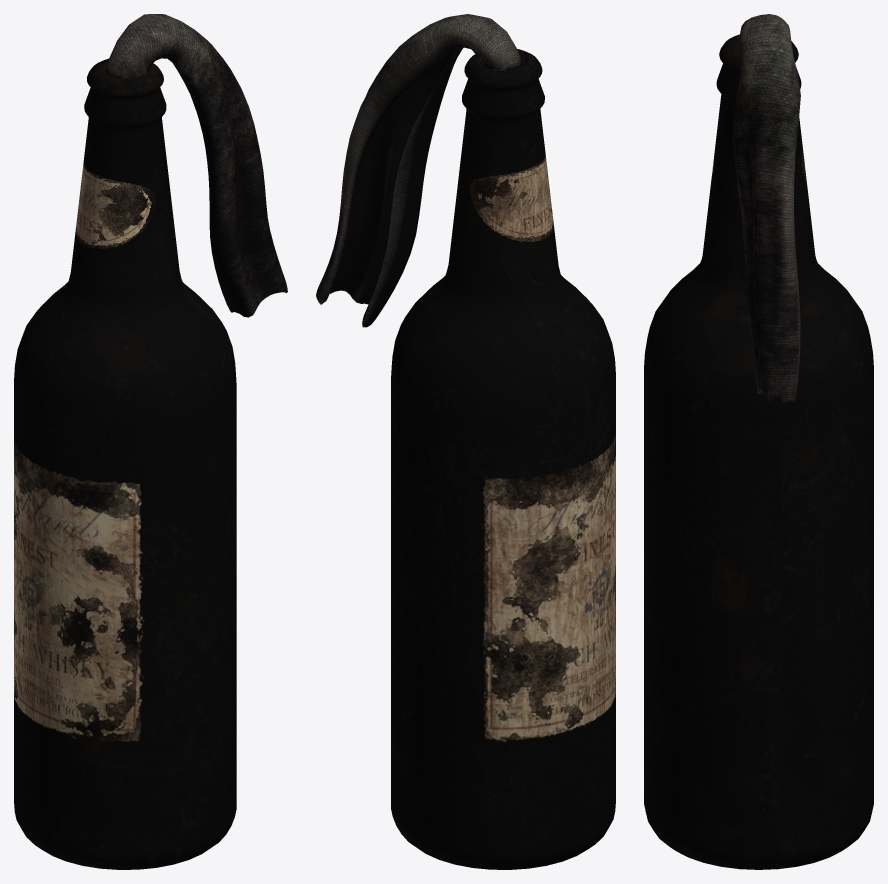
The model's file is molotov_1k.glb.
3 views of the same model, side by side, from view 1: azimuth 30°, elevation 25°; view 2: azimuth 150°, elevation 25°; view 3: azimuth 270°, elevation 25° (orthographic). The views are drawn at different scales.
Visible parts, largest first — view 1: Object_2, Object_3; view 2: Object_2, Object_3; view 3: Object_2, Object_3.
Boxes of the visible parts, x1=… form: Object_2: x1=14, y1=58, x2=236, y2=869; Object_3: x1=106, y1=14, x2=287, y2=317; Object_2: x1=391, y1=49, x2=615, y2=869; Object_3: x1=316, y1=14, x2=521, y2=327; Object_2: x1=644, y1=34, x2=873, y2=869; Object_3: x1=733, y1=14, x2=800, y2=404.
Size of the model in its own units: 4.8 by 13.67 by 3.45.
1 material, 1 textured.
